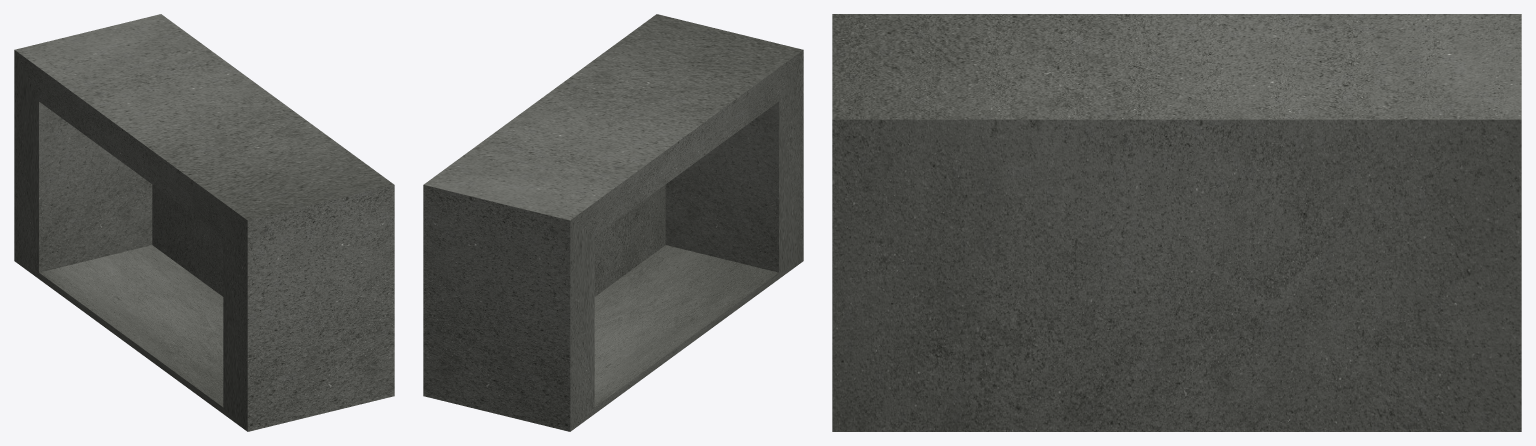
Rendered from RinconDeContenedor.fbx.
The picture shows the model from 3 angles, left to right: view 1: azimuth 30°, elevation 25°; view 2: azimuth 150°, elevation 25°; view 3: azimuth 270°, elevation 25°; orthographic projection. The views are drawn at different scales.
Parts seen in each view (by area): view 1: Pared.003; view 2: Pared.003; view 3: Pared.003.
Boxes of the visible parts, x1,y1,x2,y2 form: Pared.003: [14, 14, 394, 431]; Pared.003: [423, 14, 803, 431]; Pared.003: [832, 14, 1521, 431].
Size of the model in its own units: 218 by 300 by 600.
1 material, 1 textured.
